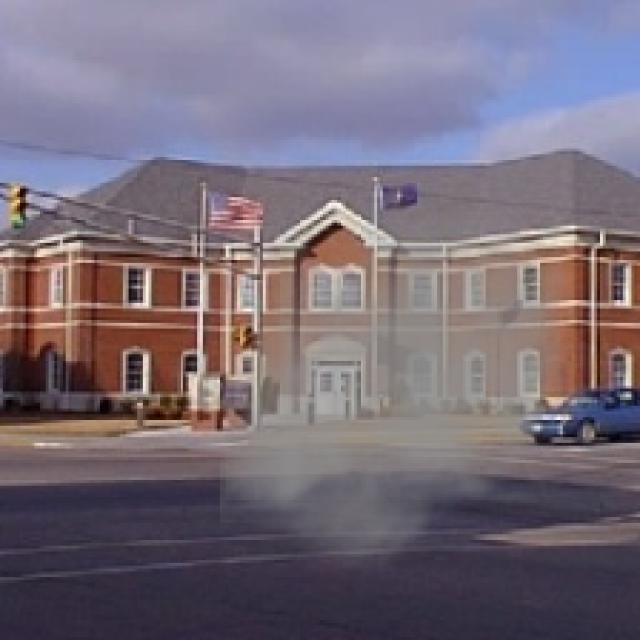Smoke: (220, 211, 569, 583)
